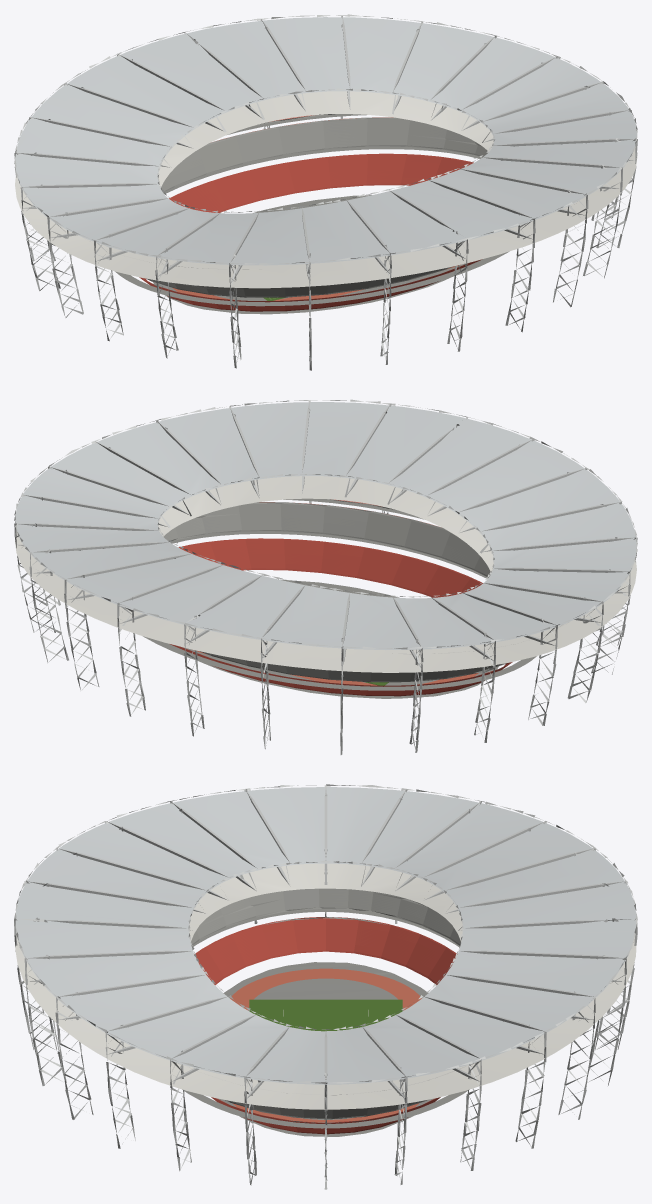
Rendered from birdnest-far-7dff0eac0a.glb.
3 renders of one model, top to bottom at view 1: azimuth 30°, elevation 25°; view 2: azimuth 150°, elevation 25°; view 3: azimuth 270°, elevation 25°, orthographic. The views are drawn at different scales.
Visible parts, largest first — view 1: birdnest coarse.001; view 2: birdnest coarse.001; view 3: birdnest coarse.001.
Part boxes in pixels (box(x1,y1,x2,y2)): birdnest coarse.001: box(14, 14, 637, 370); birdnest coarse.001: box(14, 399, 637, 754); birdnest coarse.001: box(14, 784, 637, 1189).
Size of the model in its own units: 332 by 69 by 293.
